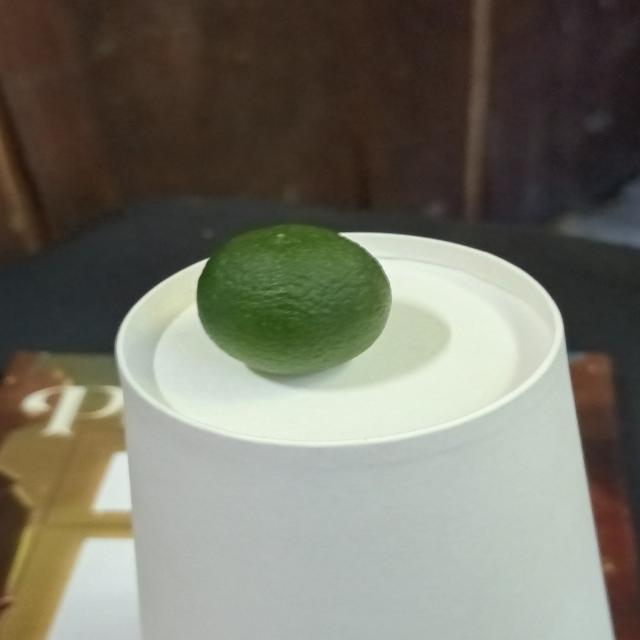heathy: (197, 220, 396, 374)
